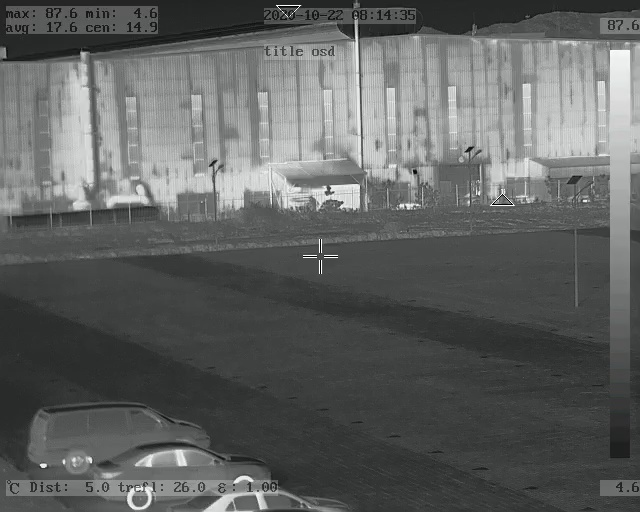vehicle: (25, 401, 214, 474), (92, 439, 271, 506), (178, 481, 348, 512)
